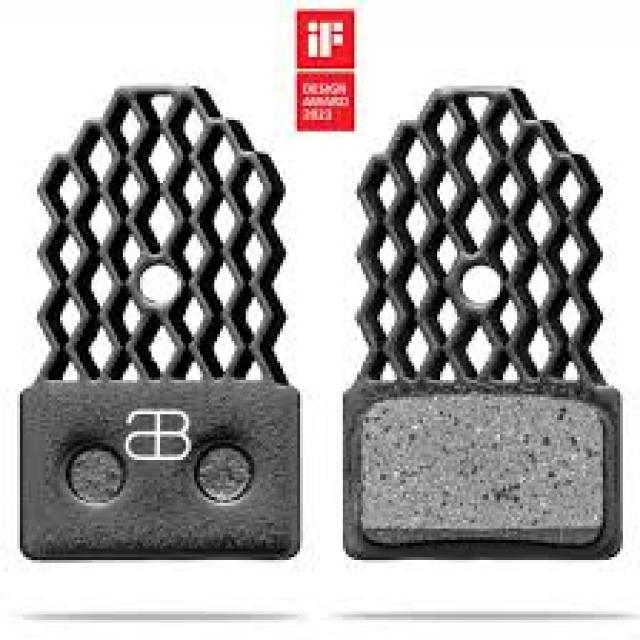brake_pad: (14, 76, 294, 564), (358, 68, 628, 569)
